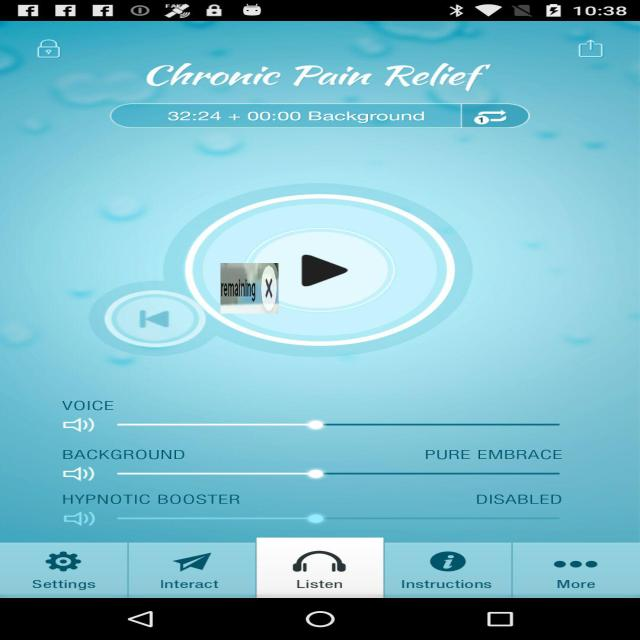misdirection: (220, 263, 278, 314)
